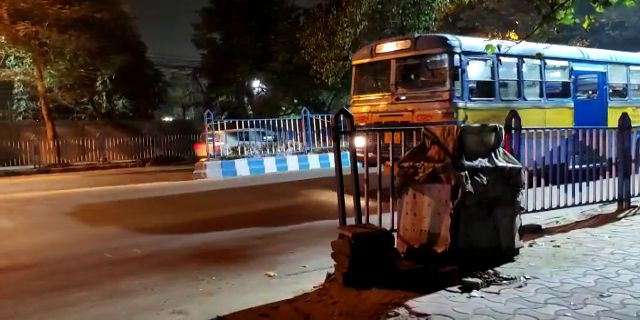Bus: (346, 35, 626, 188)
